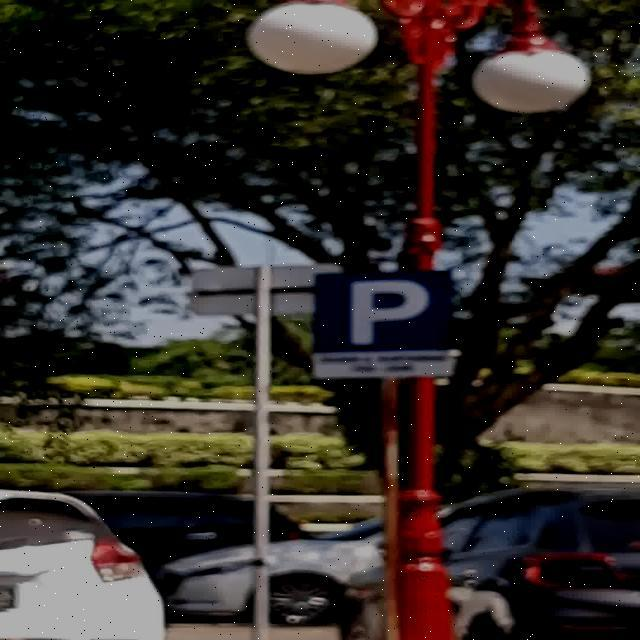Tempat Parkir: (315, 272, 450, 379)
